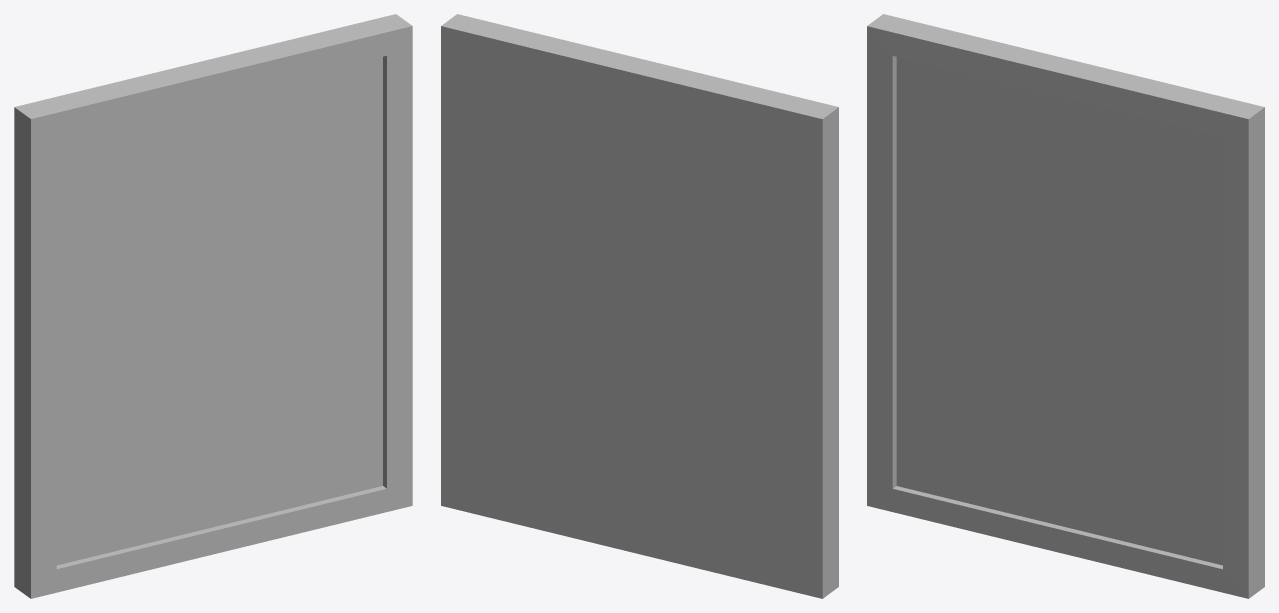
The model's file is Itr_Obj_Frame2_01.FBX.
The picture shows the model from 3 angles, left to right: view 1: azimuth 30°, elevation 25°; view 2: azimuth 150°, elevation 25°; view 3: azimuth 330°, elevation 25°; orthographic projection.
Parts seen in each view (by area): view 1: Itr_Obj_Frame2_01; view 2: Itr_Obj_Frame2_01; view 3: Itr_Obj_Frame2_01.
Boxes of the visible parts, <box> form: Itr_Obj_Frame2_01: <box>14,14,412,598</box>; Itr_Obj_Frame2_01: <box>441,14,838,598</box>; Itr_Obj_Frame2_01: <box>867,14,1264,598</box>.
Bounding box in the file's own units: 31.11 × 37.35 × 2.33.
